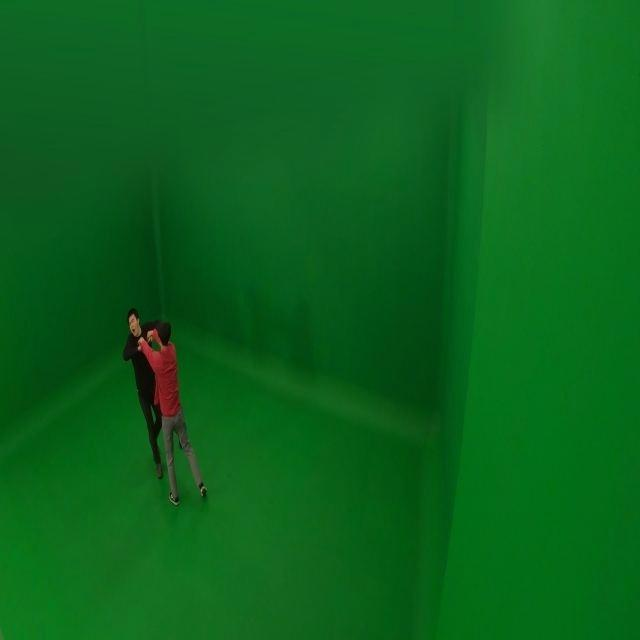fight: (124, 305, 203, 509)
